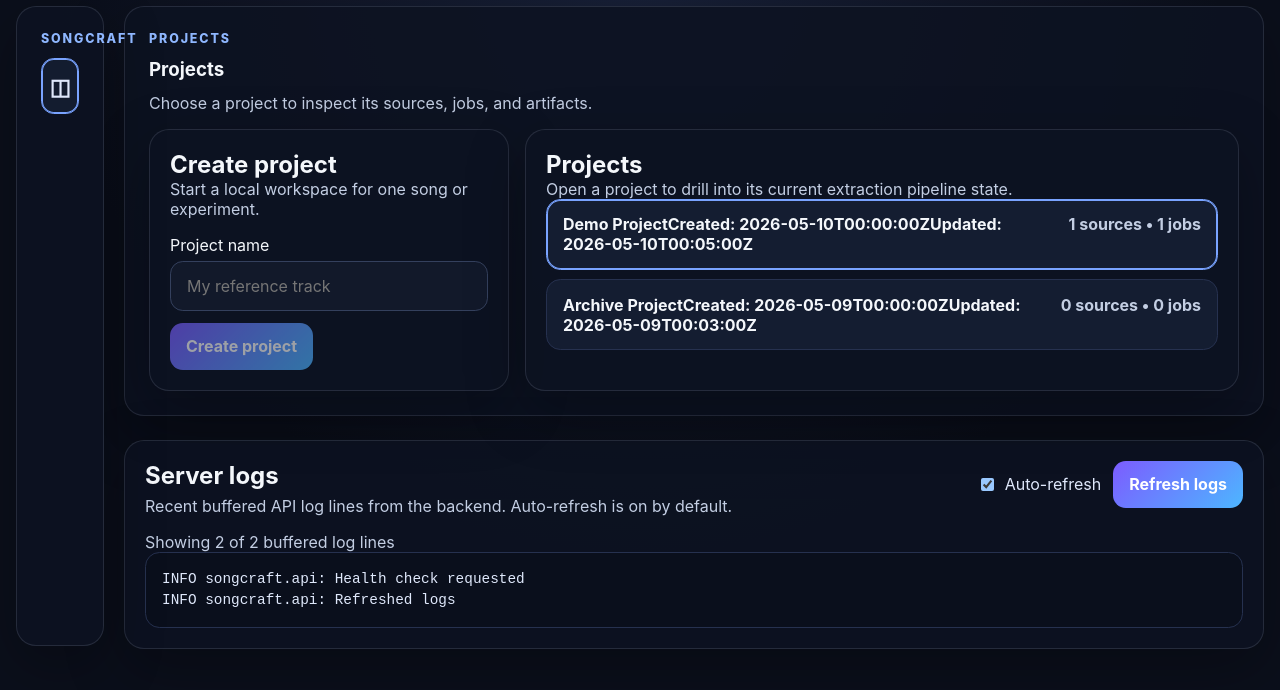
Scenario: App › loads and displays source artifact previews on demand
Click the button with aria-label "Open project Demo Project" at (882, 234), box [546,199,1218,270]
(page scrolled)
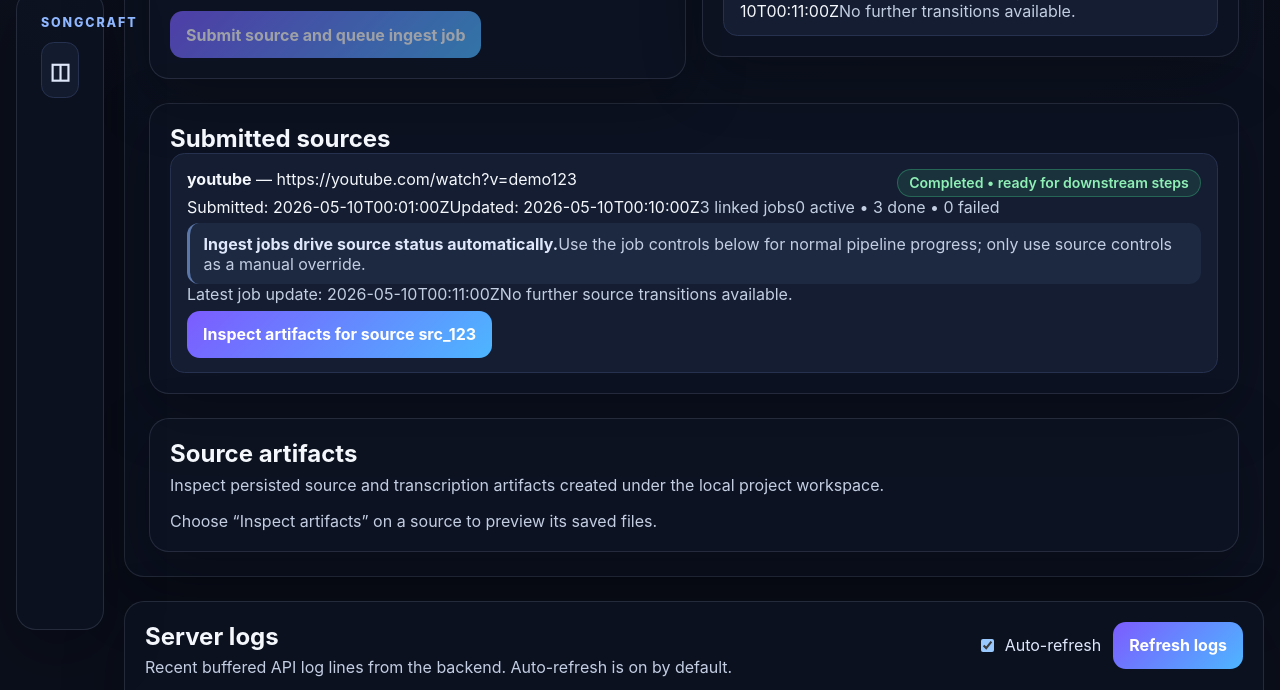
Click the button "Inspect artifacts for source src_123" at (340, 334), box [187,311,492,358]
(page scrolled)
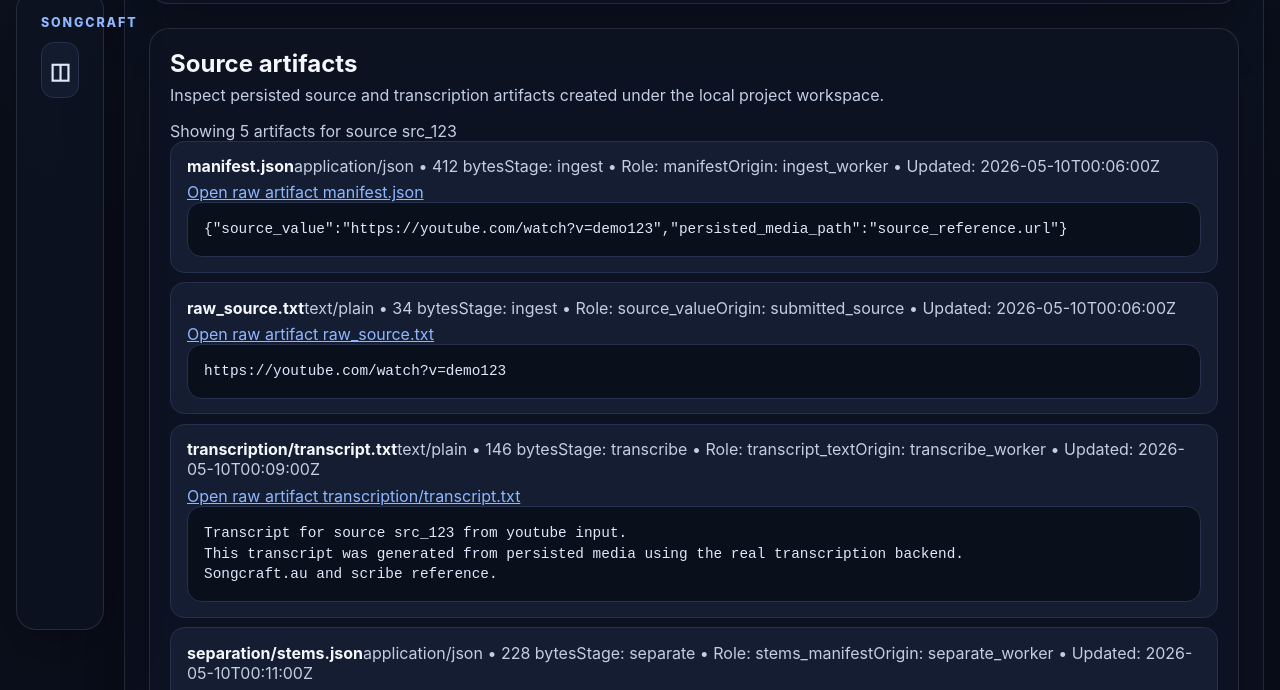
Expected: the heading "Source artifacts" is shown, [170,49,357,78]
Expected: the text "manifest.json" is shown, [187,156,294,176]
Expected: the text "application/json • 412 bytes" is shown, [294,156,504,176]
